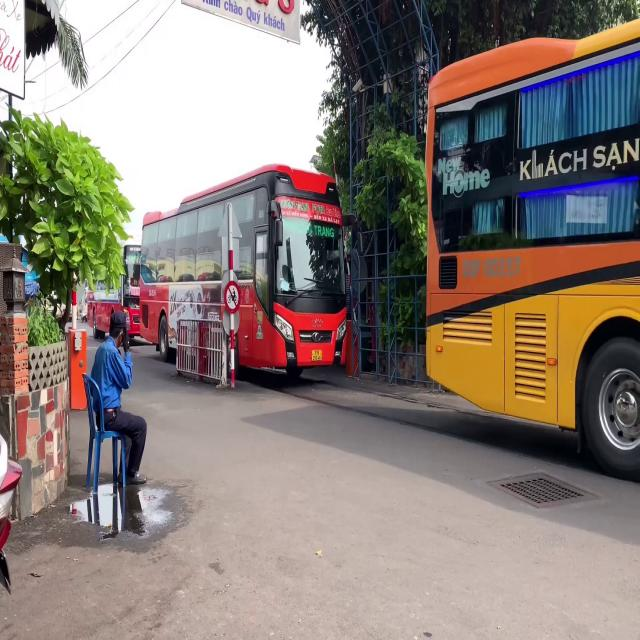bien_vang: (312, 349, 324, 362)
